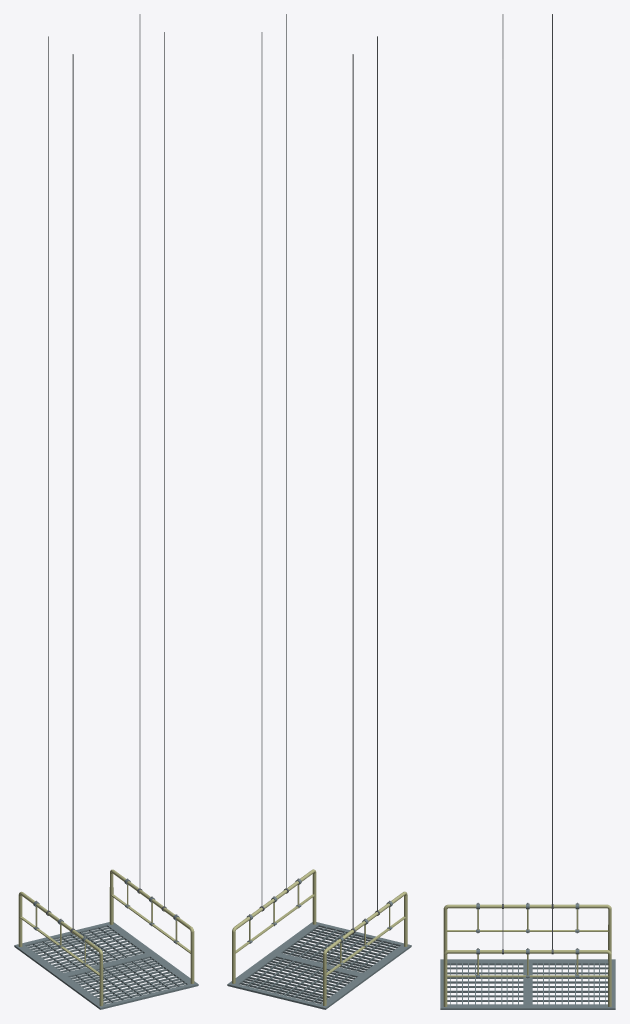
Rendered from Floating_Walkway_Base.fbx.
3 views of the same model, side by side, from view 1: azimuth 30°, elevation 25°; view 2: azimuth 150°, elevation 25°; view 3: azimuth 270°, elevation 25° (orthographic).
Visible parts, largest first — view 1: pCube51, pCylinder67, pCylinder68, pCylinder69, pCylinder66; view 2: pCube51, pCylinder67, pCylinder69, pCylinder66, pCylinder68; view 3: pCube51, pCylinder66, pCylinder67.
Boxes of the visible parts, left/top/right/bottom form: pCube51: left=14, top=869, right=198, bottom=1009; pCylinder67: left=139, top=14, right=140, bottom=888; pCylinder68: left=72, top=54, right=73, bottom=928; pCylinder69: left=48, top=36, right=48, bottom=911; pCylinder66: left=164, top=32, right=164, bottom=906; pCube51: left=227, top=869, right=411, bottom=1009; pCylinder67: left=261, top=32, right=262, bottom=906; pCylinder69: left=352, top=54, right=353, bottom=928; pCylinder66: left=286, top=14, right=286, bottom=888; pCylinder68: left=377, top=36, right=377, bottom=910; pCube51: left=440, top=902, right=615, bottom=1009; pCylinder66: left=502, top=59, right=503, bottom=949; pCylinder67: left=552, top=59, right=552, bottom=949.
Bounding box in the file's own units: 1.31 × 11.89 × 1.99.
